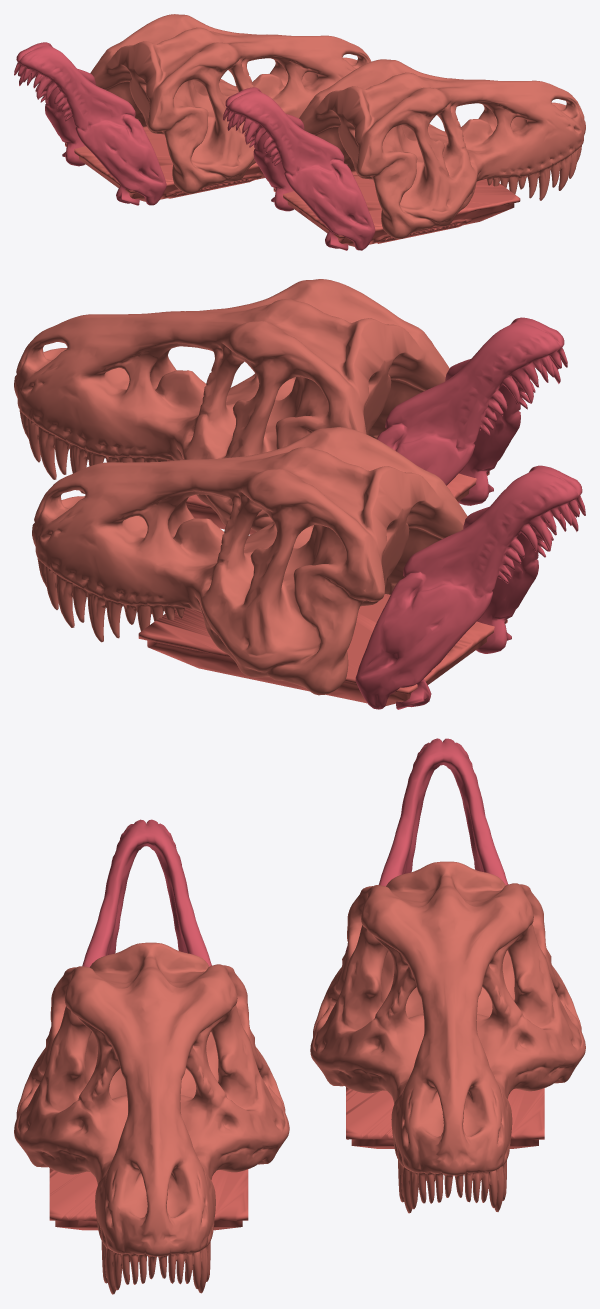
The model's file is 20180531_trex_remadelow.gltf.
3 views of the same model, one above another, from view 1: azimuth 30°, elevation 25°; view 2: azimuth 150°, elevation 25°; view 3: azimuth 270°, elevation 25° (orthographic). The views are drawn at different scales.
Parts seen in each view (by area): view 1: Trex_remade2lower; view 2: Trex_remade2lower; view 3: Trex_remade2lower.
Boxes of the visible parts, <box> form: Trex_remade2lower: <box>14,14,585,250</box>; Trex_remade2lower: <box>14,279,585,709</box>; Trex_remade2lower: <box>14,738,585,1294</box>.
Bounding box in the file's own units: 374 × 127 × 260.
